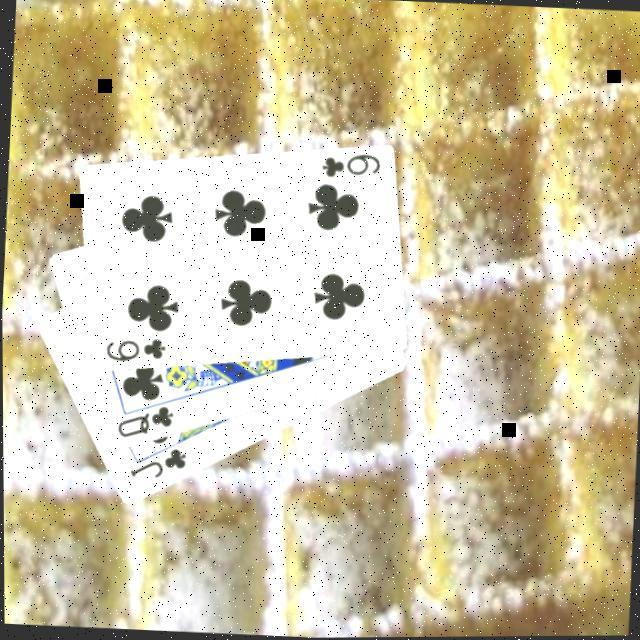6C: (315, 149, 383, 184), (99, 332, 167, 366)
JC: (125, 442, 189, 483)
QC: (112, 400, 176, 443)
